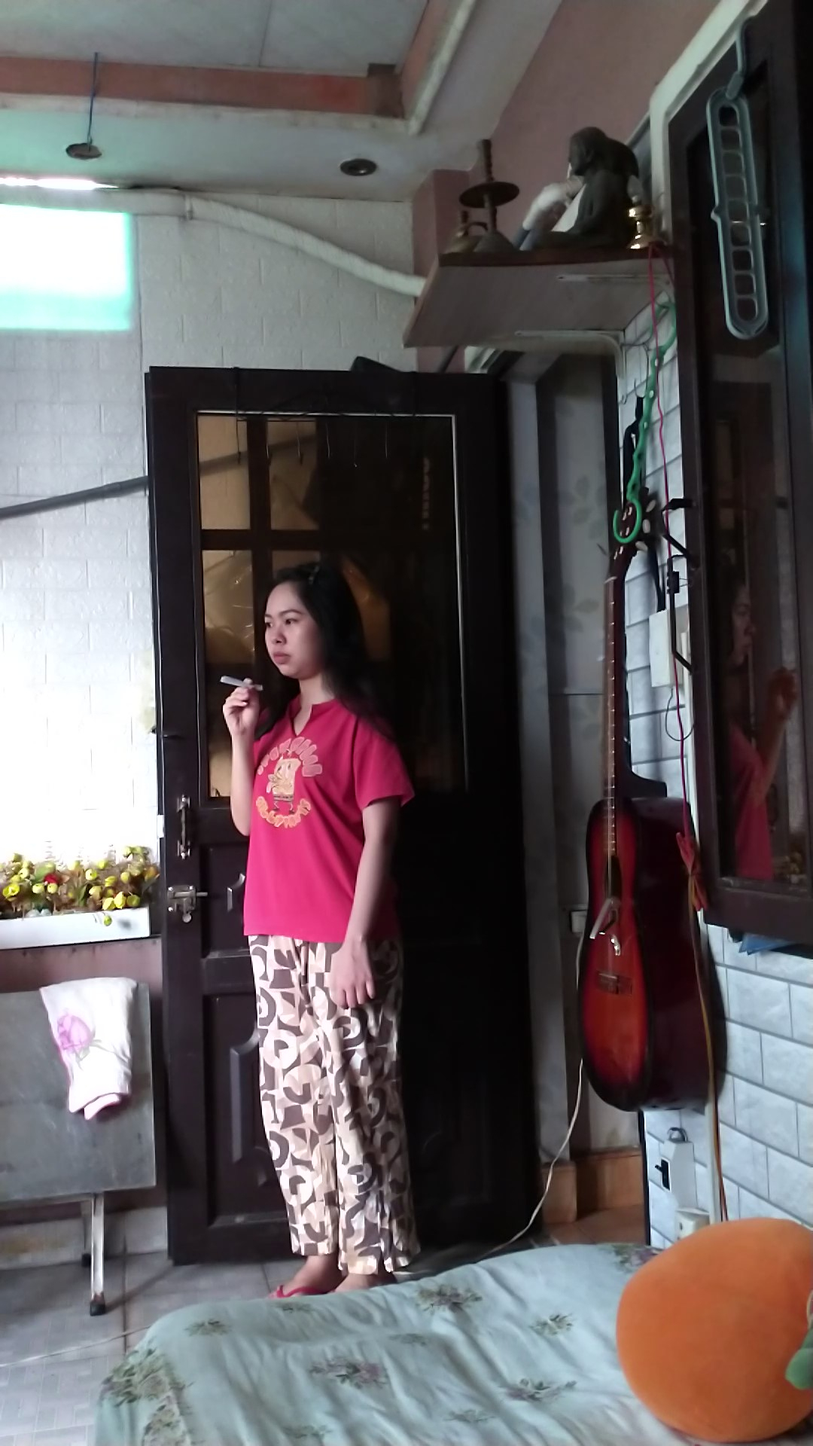cigarette: (217, 673, 246, 690)
person: (220, 561, 419, 1274)
